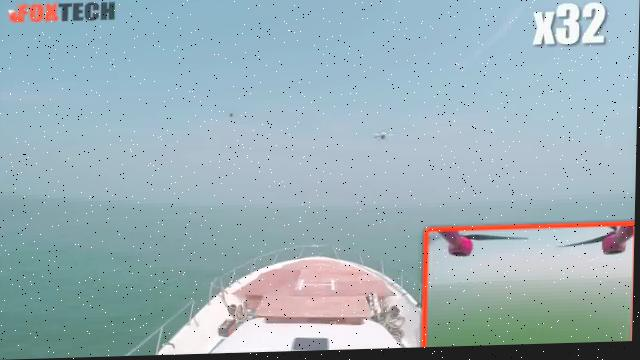drone: (222, 104, 250, 129), (369, 128, 396, 150)
